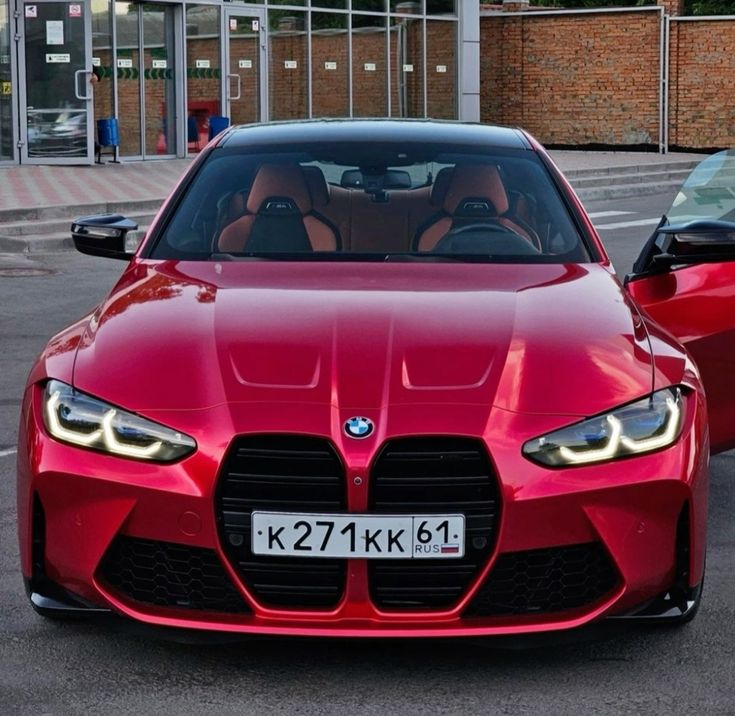plate: (248, 518, 465, 556)
